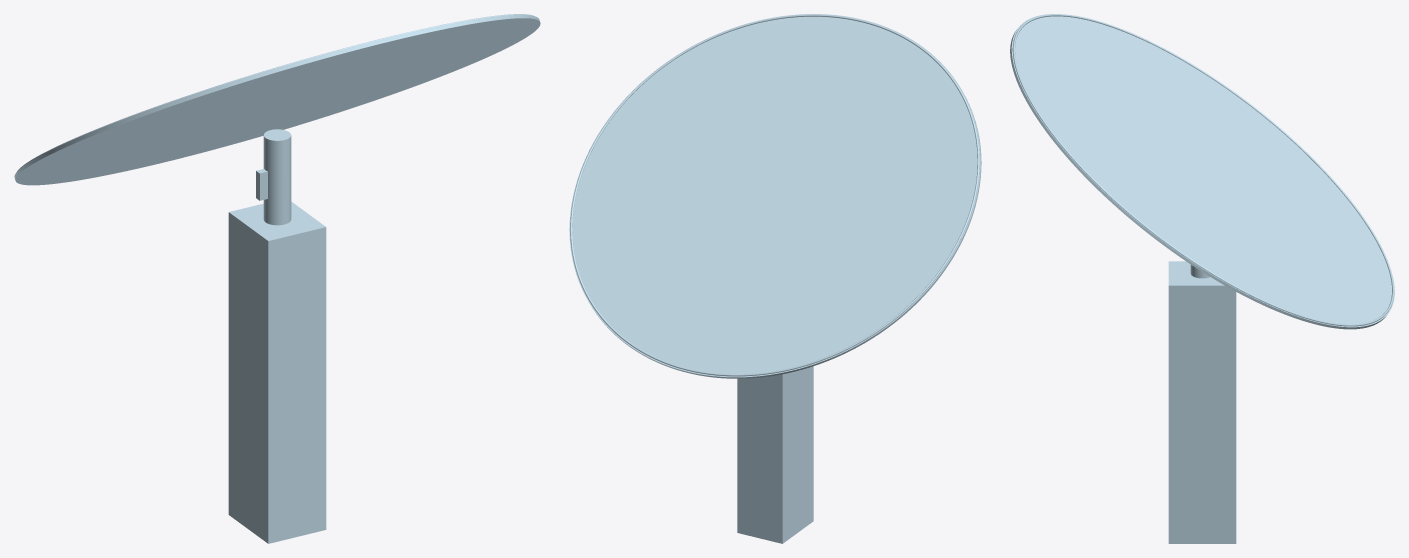
The model's file is pod_assembly.glb.
The picture shows the model from 3 angles, left to right: view 1: azimuth 30°, elevation 25°; view 2: azimuth 150°, elevation 25°; view 3: azimuth 270°, elevation 25°; orthographic projection. The views are drawn at different scales.
Visible parts, largest first — view 1: Pod container, Solar disc, Hatch column, Solar rim; view 2: Solar disc, Pod container, Solar rim; view 3: Solar disc, Pod container, Solar rim.
Boxes of the visible parts, left/top/right/bottom form: Pod container: left=228, top=201, right=326, bottom=543; Solar disc: left=14, top=15, right=540, bottom=185; Hatch column: left=263, top=129, right=291, bottom=225; Solar rim: left=17, top=14, right=533, bottom=171; Solar disc: left=569, top=14, right=981, bottom=378; Pod container: left=737, top=366, right=813, bottom=543; Solar rim: left=570, top=14, right=979, bottom=376; Solar disc: left=1010, top=14, right=1394, bottom=329; Pod container: left=1168, top=261, right=1236, bottom=543; Solar rim: left=1012, top=14, right=1394, bottom=326.
Bounding box in the file's own units: 20 × 22.79 × 16.45.
